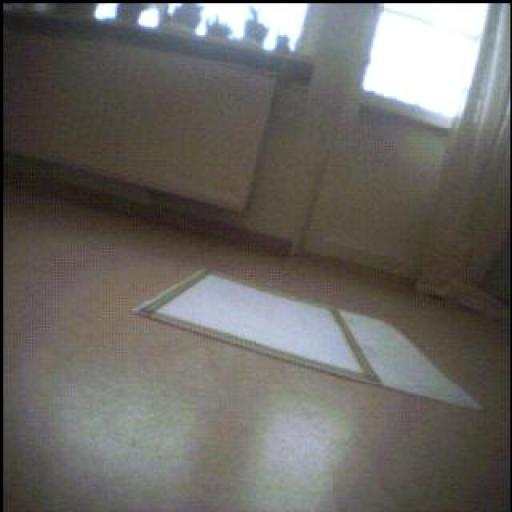Pad: (137, 271, 481, 409)
